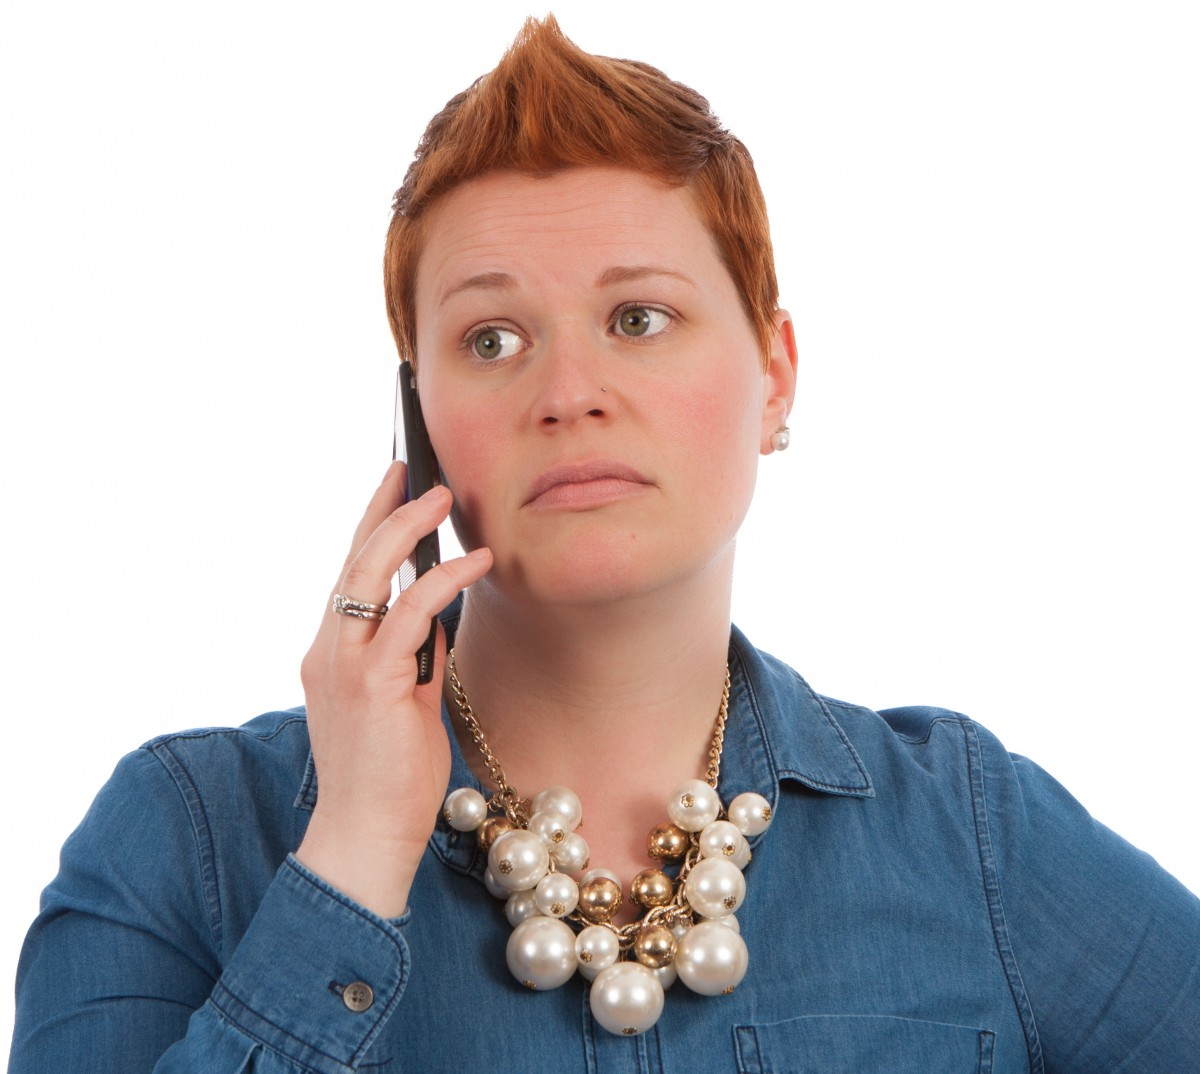phone: (345, 349, 465, 677)
talk: (306, 234, 747, 821)
